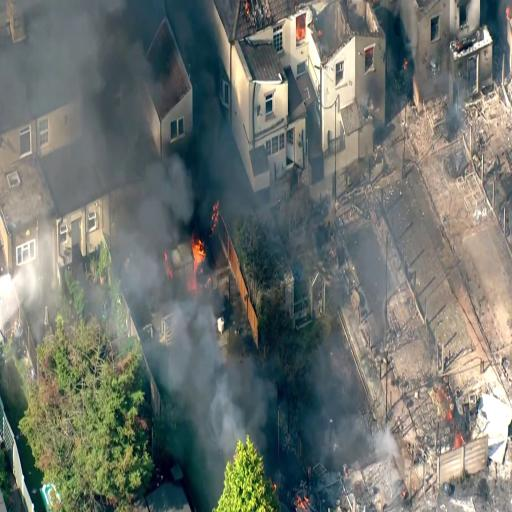fire: (187, 220, 212, 274)
smoke: (194, 332, 262, 459)
